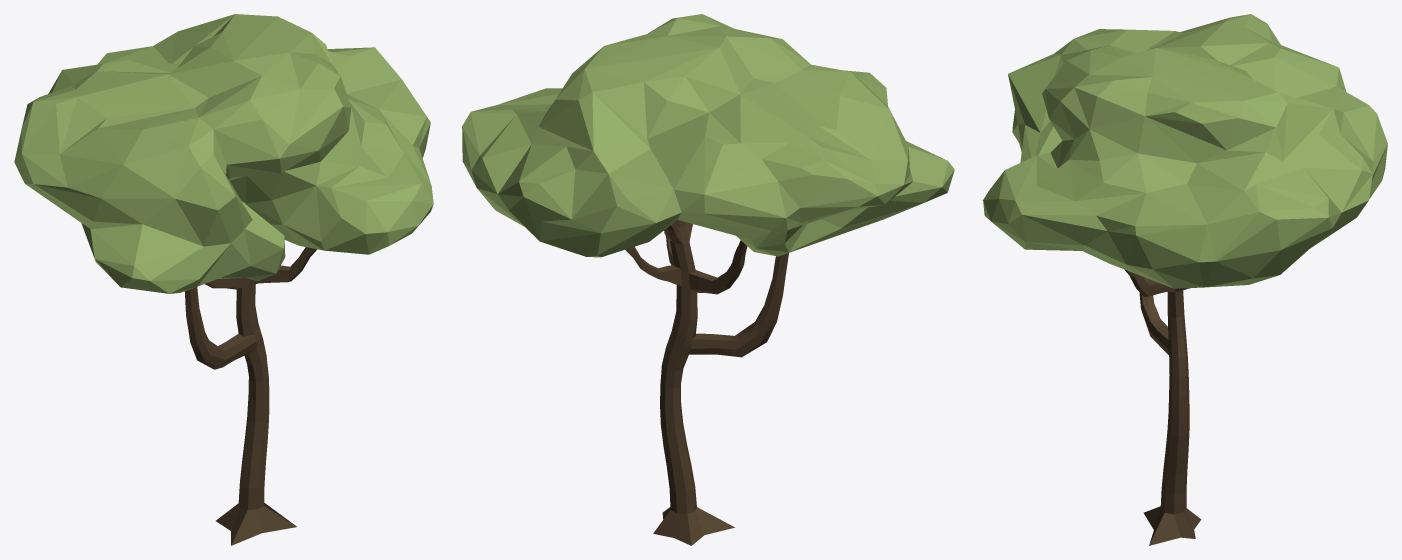
Rendered from FINAL_N_Tree1_maple.fbx.
3 renders of one model, left to right at view 1: azimuth 30°, elevation 25°; view 2: azimuth 150°, elevation 25°; view 3: azimuth 270°, elevation 25°, orthographic. The views are drawn at different scales.
Visible parts, largest first — view 1: polySurface2; view 2: polySurface2; view 3: polySurface2.
Boxes of the visible parts, box(x1,y1,x2,y2) form: polySurface2: box(14, 14, 433, 545); polySurface2: box(462, 14, 954, 545); polySurface2: box(983, 14, 1387, 545).
Size of the model in its own units: 33.84 by 38.75 by 30.3.
